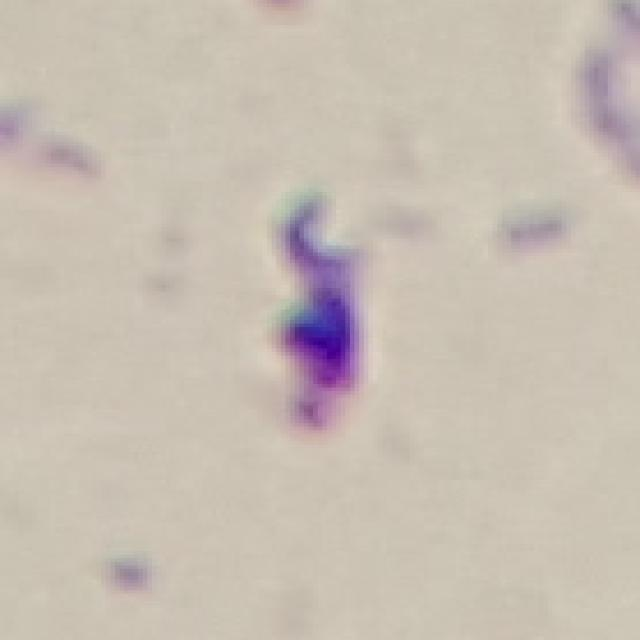non-sperm: (262, 193, 373, 426)
